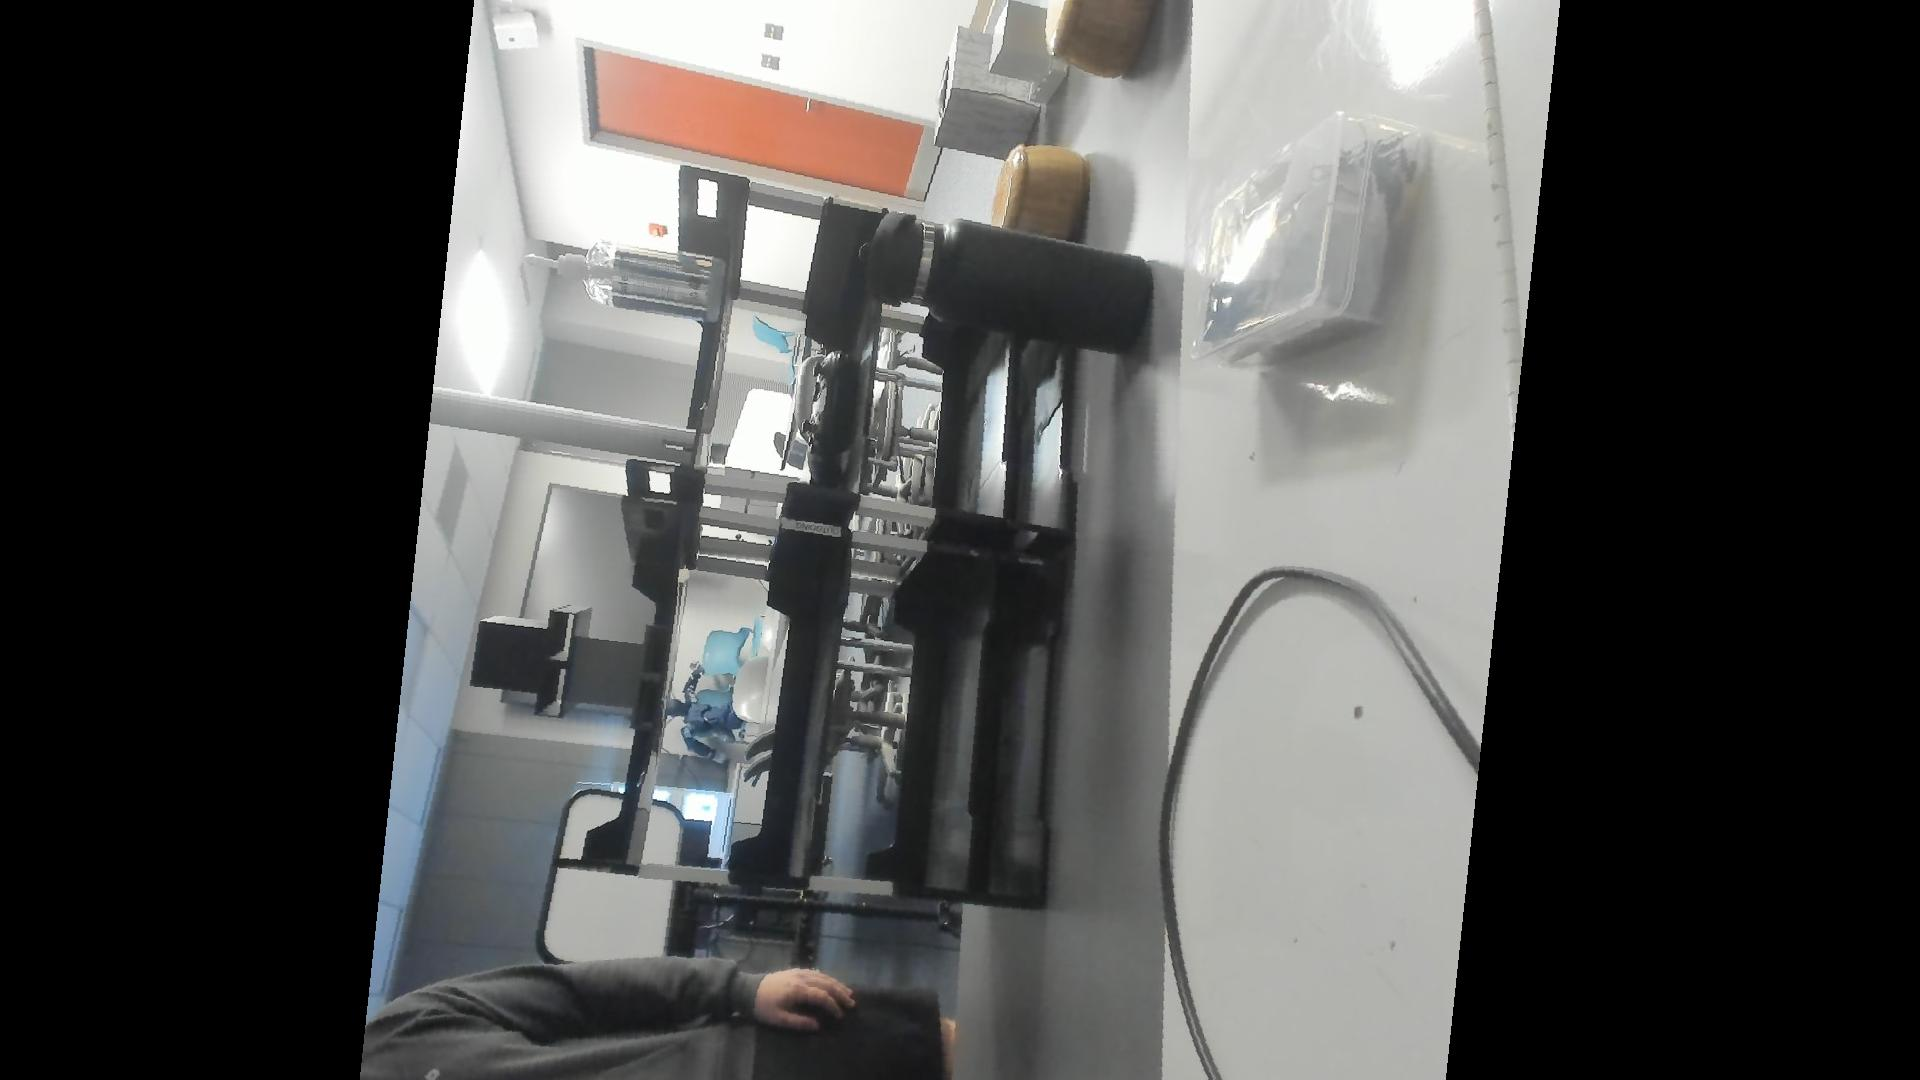black pallet: (465, 592, 589, 723)
grey pallet: (564, 616, 675, 727)
white pallet: (986, 1, 1069, 109)
